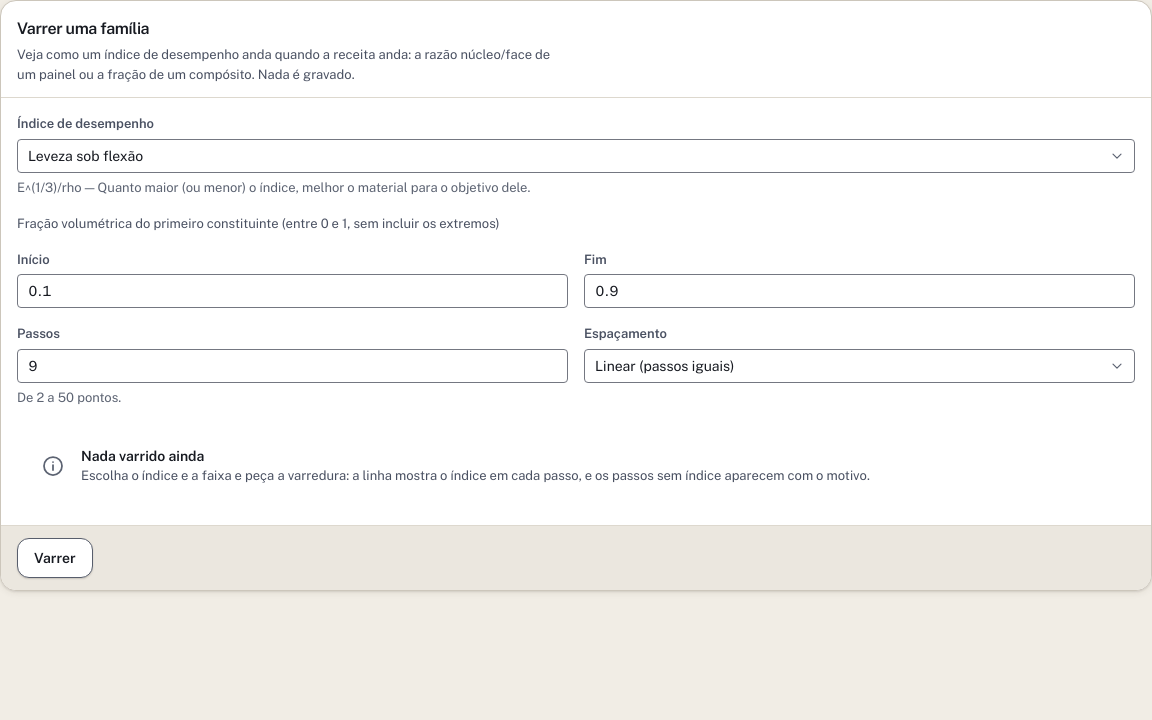
Test: Varrer (D-144) › mostra a nota da API e o passo sem índice com o motivo escrito
Check: the text "Índice de desempenho" is shown, box [17,116,154,131]
Click the button "Varrer". click: (55, 558)
box: [17,538,93,578]
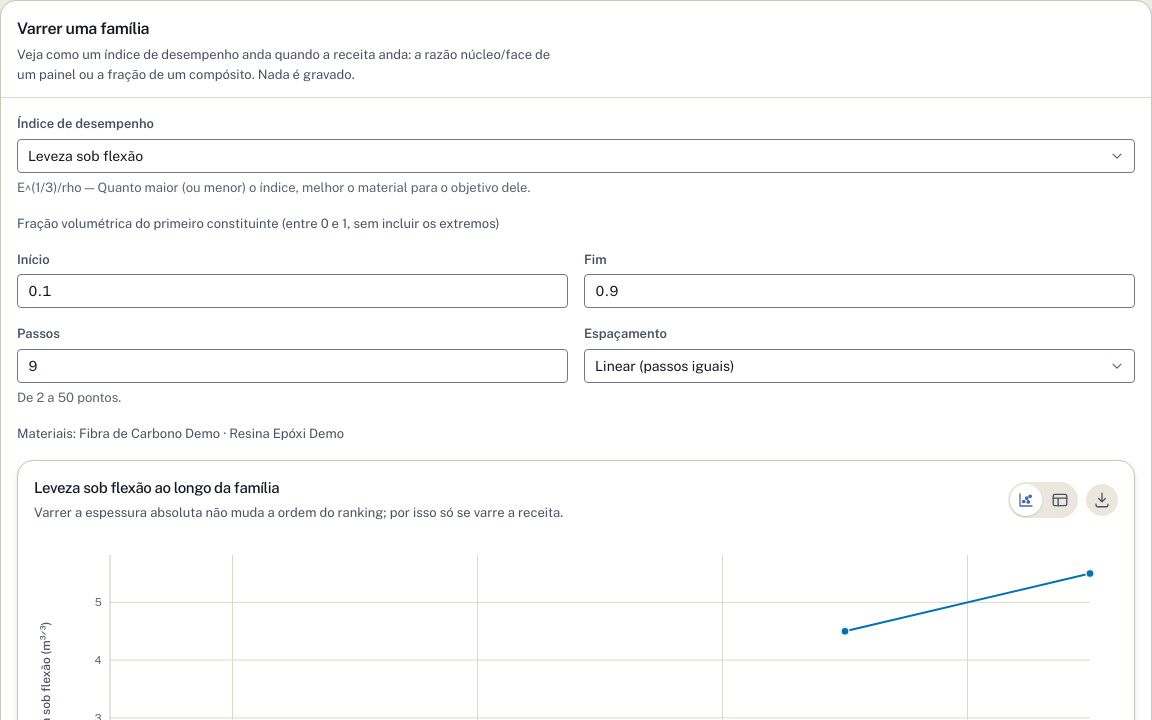
Check: the text "Varrer a espessura absoluta não muda a ordem do ranking; por isso só se varre a receita." is shown, box [34,505,563,520]
